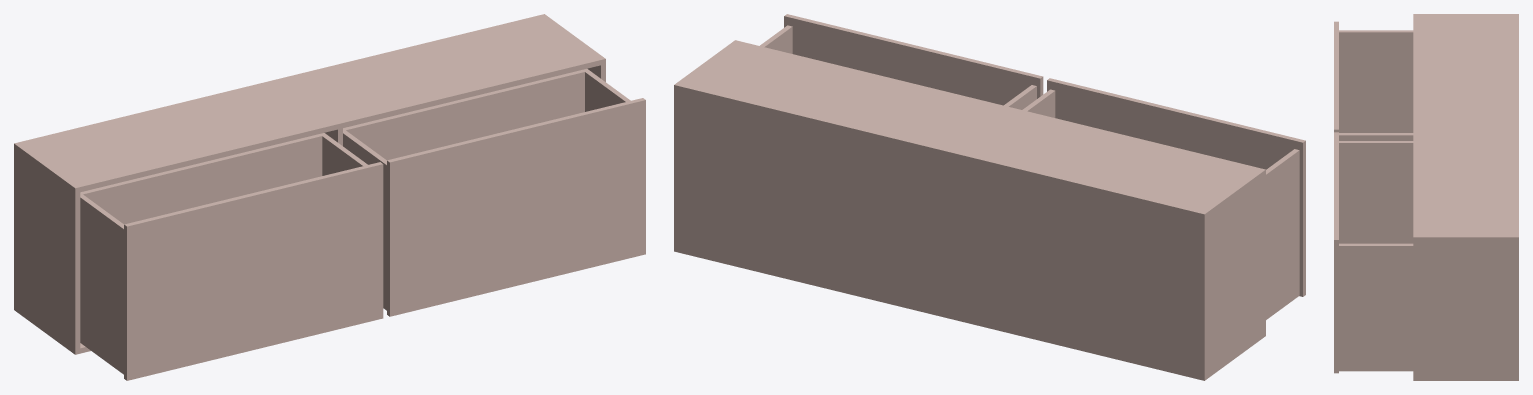
File: meuble_690f66bb2b07f.glb
The picture shows the model from 3 angles, left to right: view 1: azimuth 30°, elevation 25°; view 2: azimuth 150°, elevation 25°; view 3: azimuth 270°, elevation 25°; orthographic projection. The views are drawn at different scales.
Visible parts, largest first — view 1: world; view 2: world; view 3: world.
Part boxes in pixels (left/top/right/bottom): world: left=14, top=14, right=645, bottom=380; world: left=674, top=14, right=1305, bottom=380; world: left=1334, top=14, right=1518, bottom=380.
Size of the model in its own units: 2 by 0.6 by 0.7.
